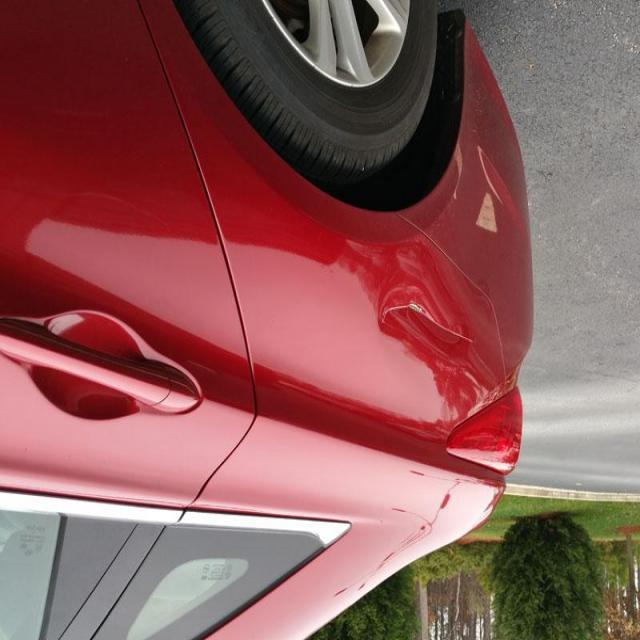dent: (375, 288, 477, 358)
